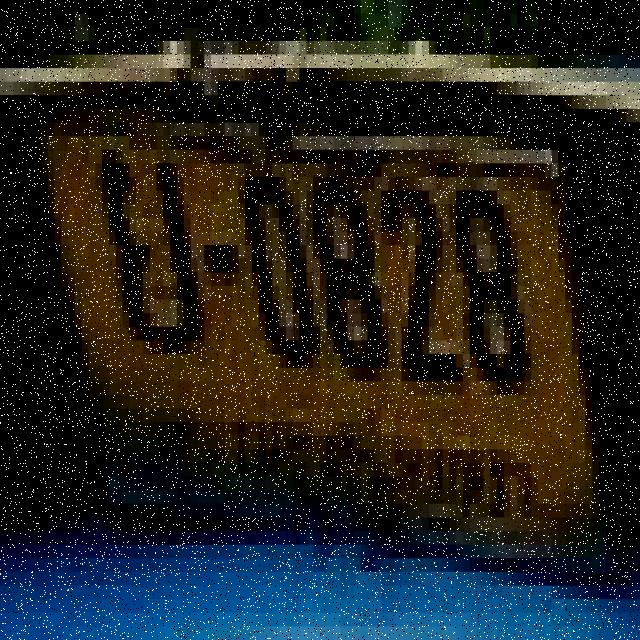licenseplate: (19, 45, 600, 602)
